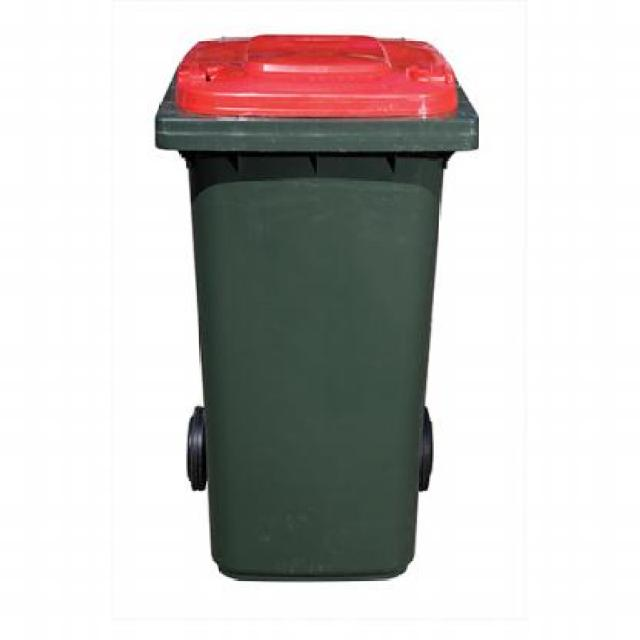garbage container: (147, 22, 495, 615)
